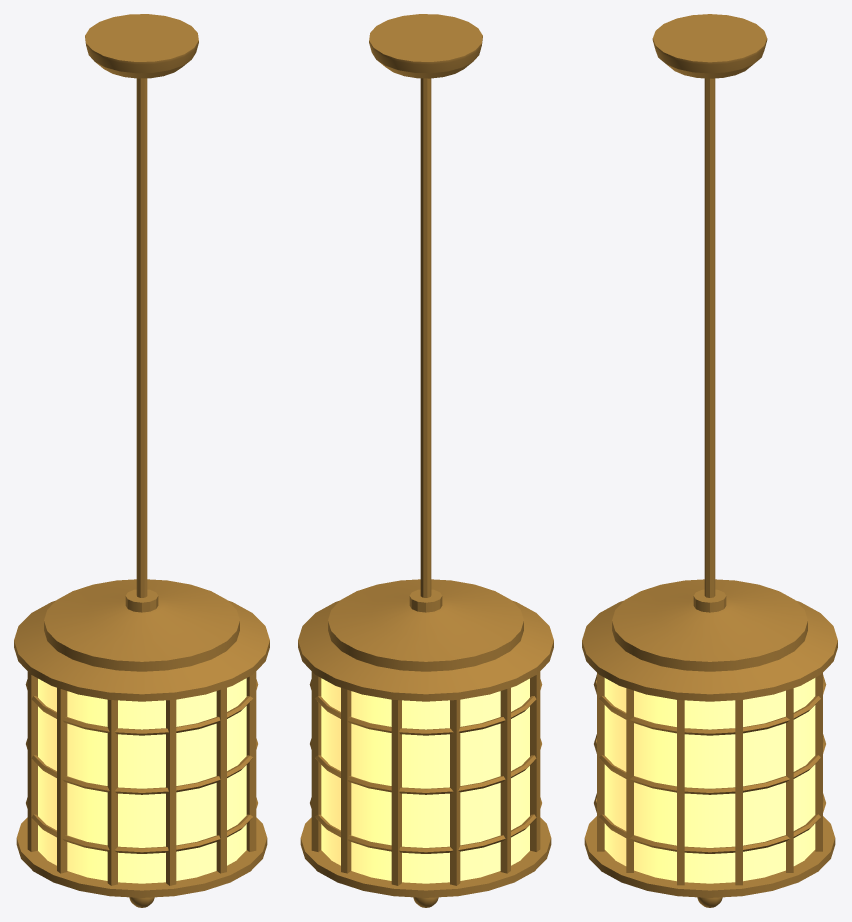
File: prop_of_hall_pendant.glb
The picture shows the model from 3 angles, left to right: view 1: azimuth 30°, elevation 25°; view 2: azimuth 150°, elevation 25°; view 3: azimuth 270°, elevation 25°; orthographic projection.
Visible parts, largest first — view 1: Pendant; view 2: Pendant; view 3: Pendant.
Part boxes in pixels (bbox=[...]): Pendant: bbox=[14, 14, 269, 907]; Pendant: bbox=[298, 14, 553, 907]; Pendant: bbox=[582, 14, 837, 907].
Bounding box in the file's own units: 0.94 × 3.52 × 0.94.
